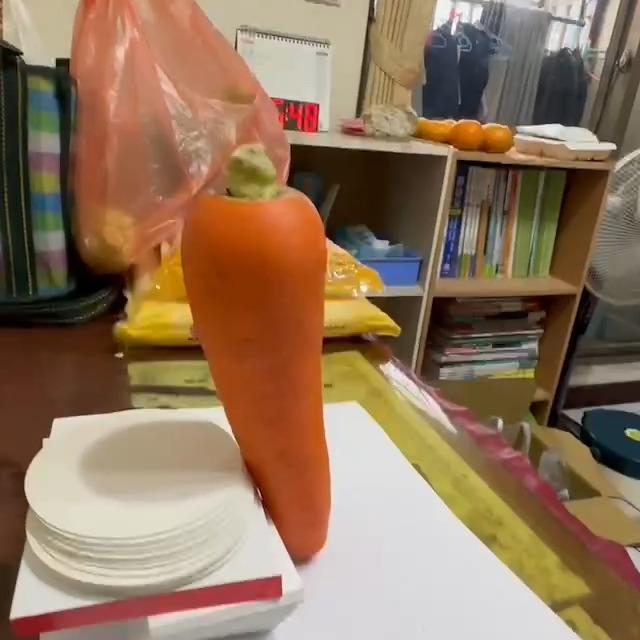carrot: (179, 143, 335, 566)
